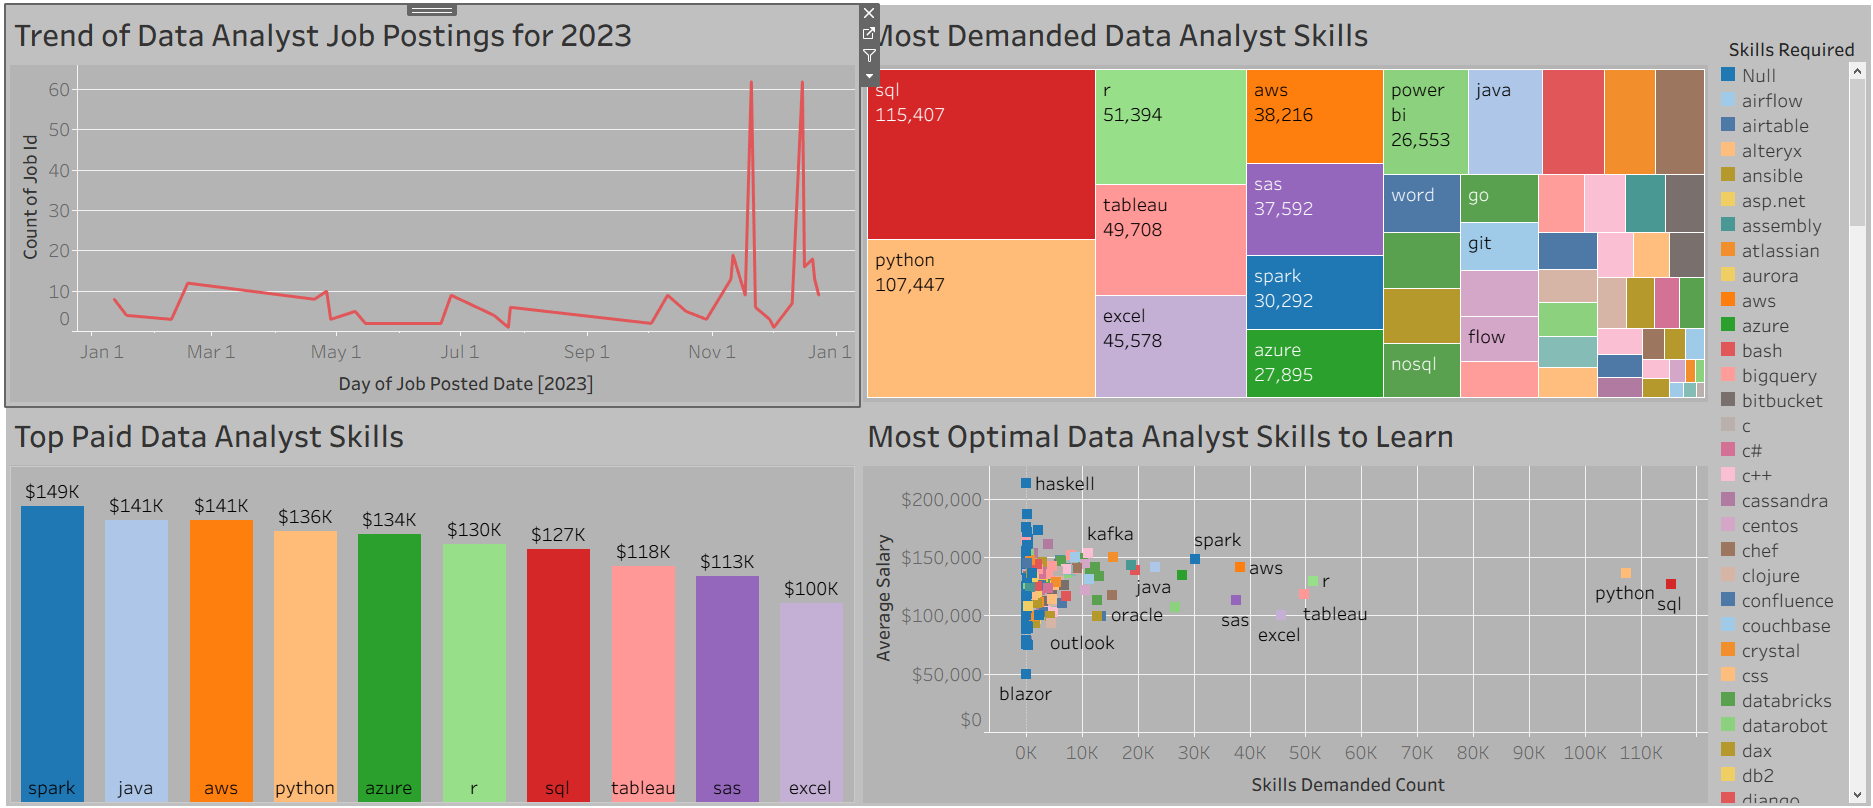

This screenshot's page, from the dashboard's own definition file:
{"tool":"tableau","page":{"name":"Dashboard 1","canvas":[1000,1000],"units":"permille","ordinal":0},"visuals":[{"type":"worksheet","title":"Sheet 5","mark":"Line","rows":["job_id"],"cols":["job_posted_date"],"box":[5,9.8,445.1,490.2]},{"type":"worksheet","title":"Sheet 3","mark":"Automatic","box":[450.1,9.8,445.1,490.2]},{"type":"legend","title":"Sheet 5","param":"[federated.0xytmui05xr48u1e9nx4m0qsaixc].[mn:job_posted_date:ok]","box":[895.3,9.8,99.8,33]},{"type":"legend","title":"Sheet 4","param":"[federated.1fozhkp0cmqdqp1f7entm1ezsbpg].[none:skills_required:nk]","box":[895.3,42.8,99.8,947.4]},{"type":"worksheet","title":"Sheet 2 (2)","mark":"Bar","rows":["average_salary","Calculation_1005428643662036995"],"cols":["skills_required"],"box":[5,500,445.1,490.2]},{"type":"worksheet","title":"Sheet 4","mark":"Square","rows":["average_salary"],"cols":["skills_demanded_count"],"box":[450.1,500,445.1,490.2]}]}

Visuals, with their boxes on the dashboard's canvas, which has no fixed pixel size, in thousandths of its width and height (x1, y1, x2, y2). These are canvas units, not pixel positions in the 1873x808 screenshot, which may show the page scaled, cropped or inside an application window:
"Sheet 5" worksheet (Line marks): (5,10,450,500)
"Sheet 3" worksheet: (450,10,895,500)
"Sheet 5" legend: (895,10,995,43)
"Sheet 4" legend: (895,43,995,990)
"Sheet 2 (2)" worksheet (Bar marks): (5,500,450,990)
"Sheet 4" worksheet (Square marks): (450,500,895,990)
